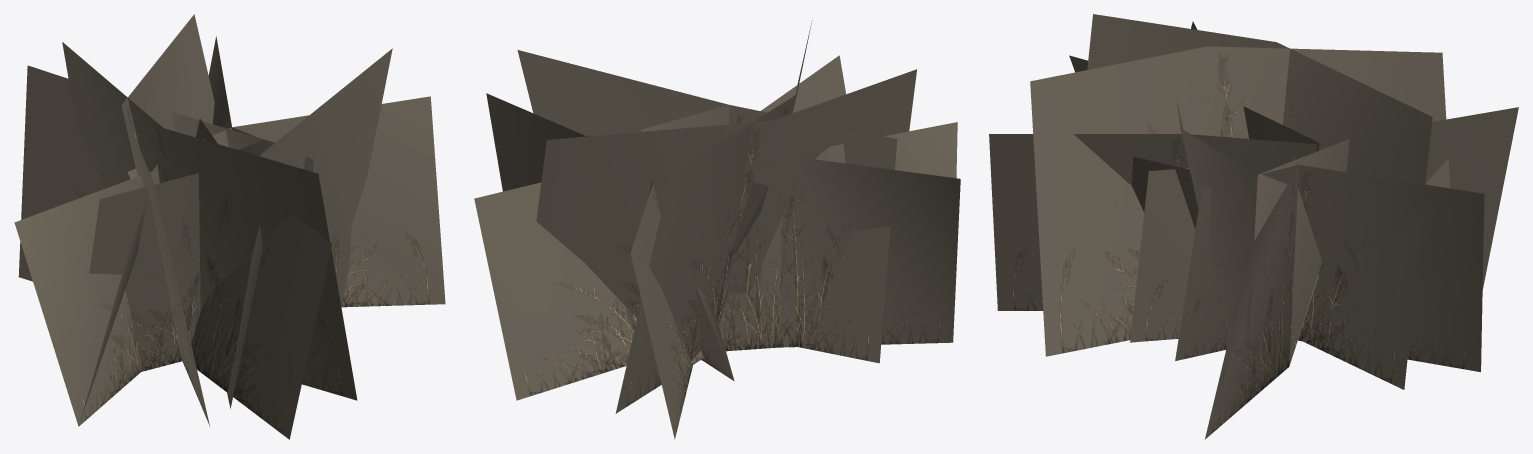
File: weed1_LODGroup.fbx
3 views of the same model, side by side, from view 1: azimuth 30°, elevation 25°; view 2: azimuth 150°, elevation 25°; view 3: azimuth 270°, elevation 25° (orthographic). The views are drawn at different scales.
Parts seen in each view (by area): view 1: weed1_LOD0; view 2: weed1_LOD0; view 3: weed1_LOD0.
Boxes of the visible parts, x1,y1,x2,y2 form: weed1_LOD0: (14, 14, 445, 439); weed1_LOD0: (474, 20, 960, 439); weed1_LOD0: (989, 14, 1518, 439).
Size of what is drawn, in the model's own units: 2.03 by 1.07 by 2.03.
